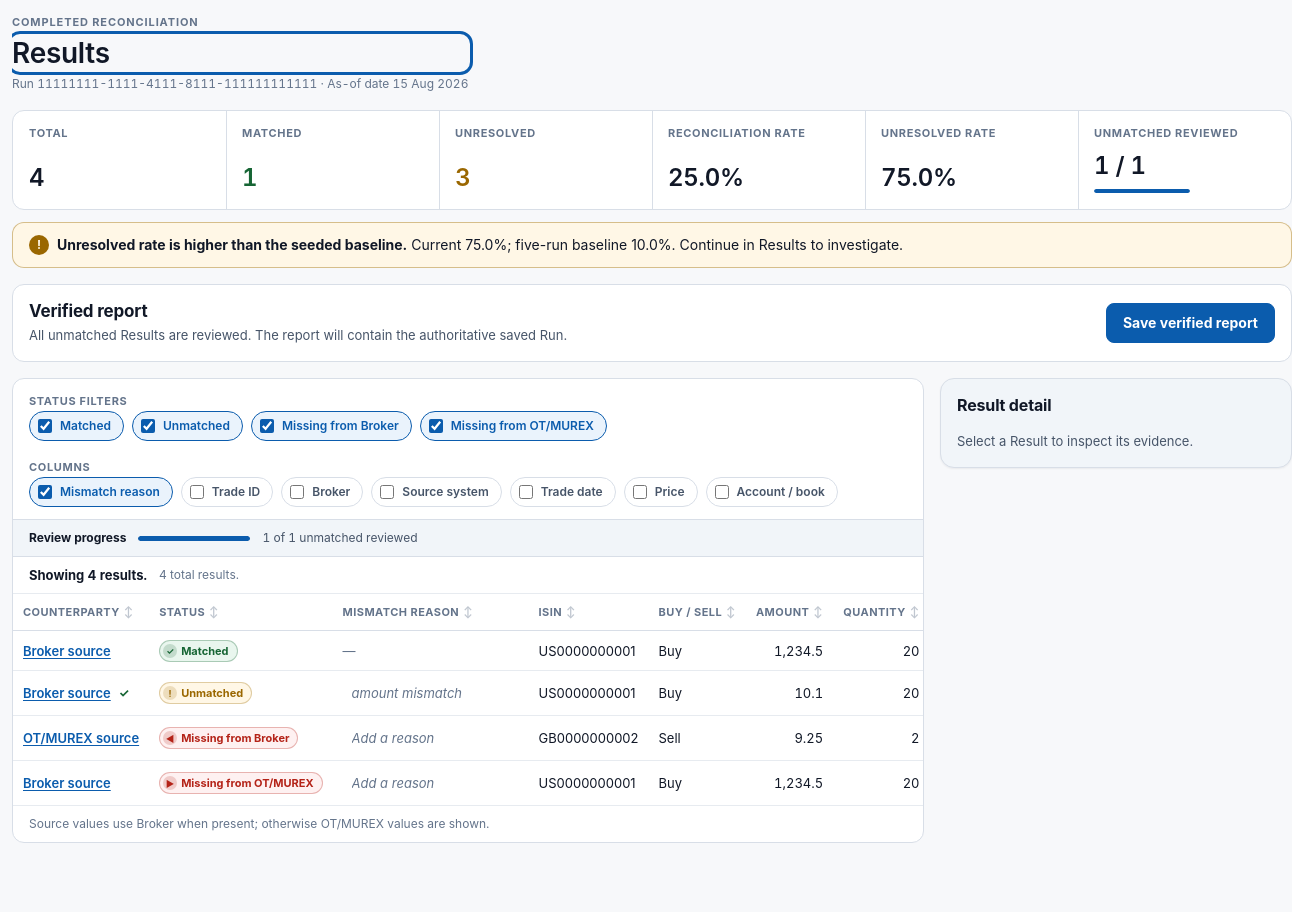
Test: Results workspace table › saves an eligible verified report and retains Results context through a retryable failure
What coordinates should you click on to do the following:
click the button "Save verified report"
I would click on:
 (1190, 323)
Its box is [1106, 303, 1275, 343].
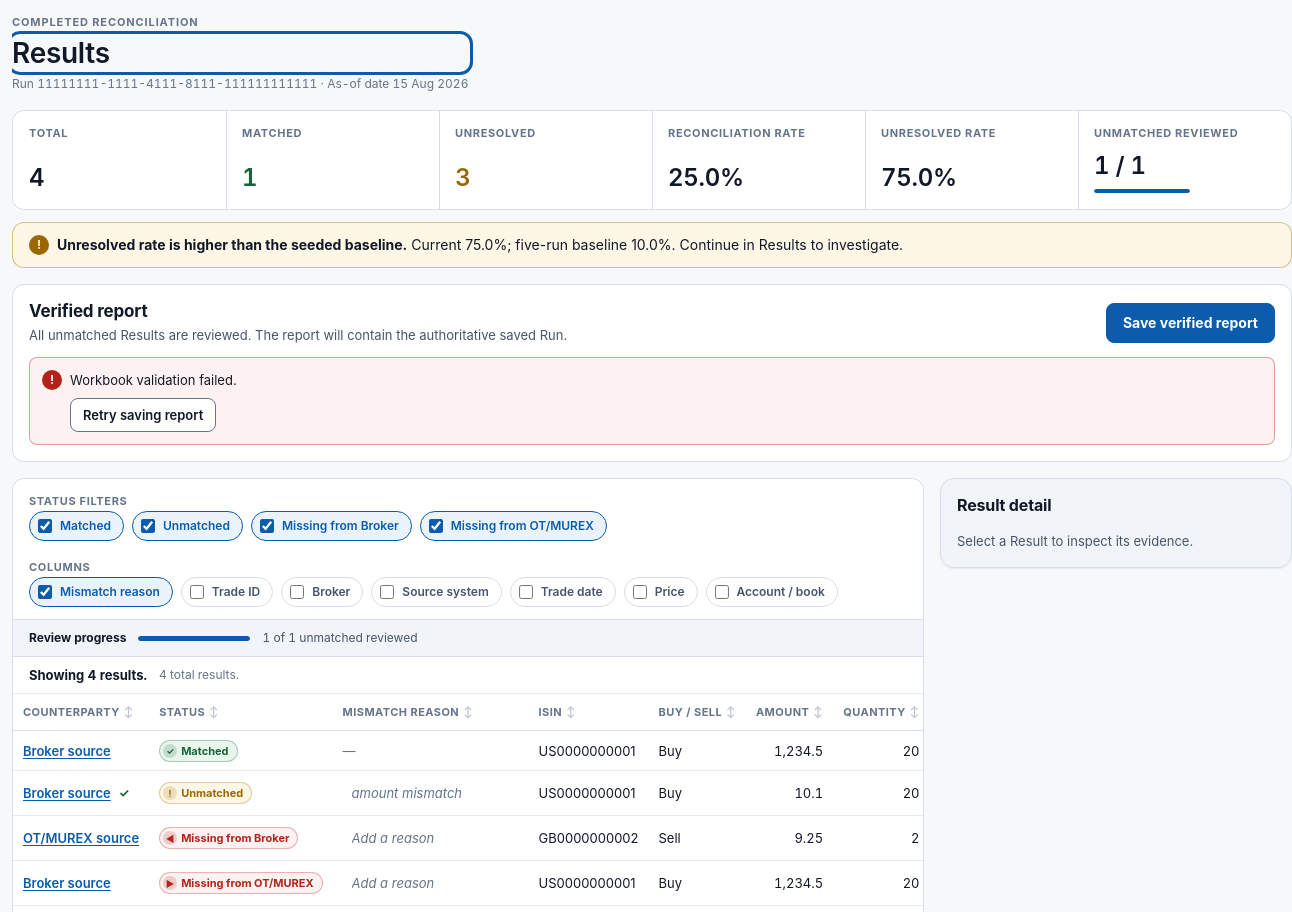
Check: the element named "Reconciliation summary" is shown, box [12, 110, 1291, 268]
Check: the message "Workbook validation failed. Retry saving report" is shown, box [29, 357, 1275, 445]
What coordinates should you click on to do the following:
click the button "Retry saving report"
I would click on:
 (143, 415)
Its box is [70, 398, 216, 432].
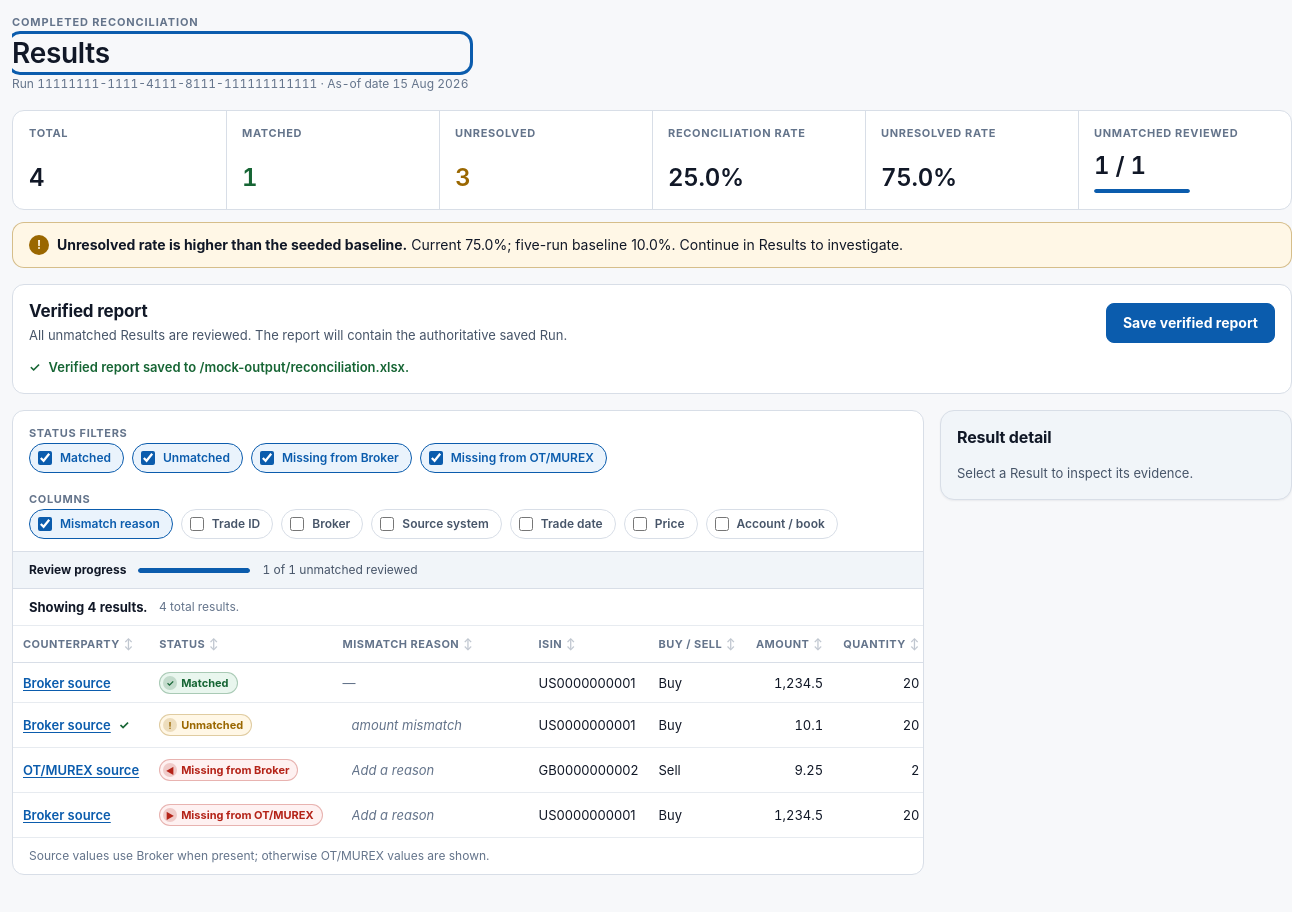
Check: the text "Verified report saved to /mock-output/reconciliation.xlsx." is shown, box [48, 359, 409, 375]
